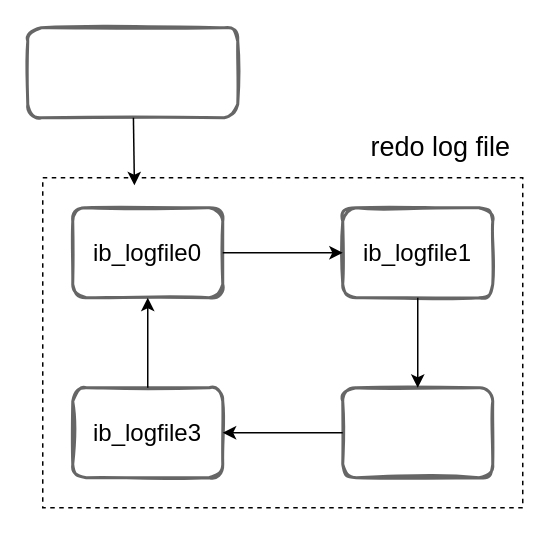
Some shapes in this 549 by 534 pixel diagram are drawn without their labels. The centre of each missing label's shape, as x and y in pixels:
"ib_logfile2" goes at [417,432].
"redo log buffer" goes at [132,72].
